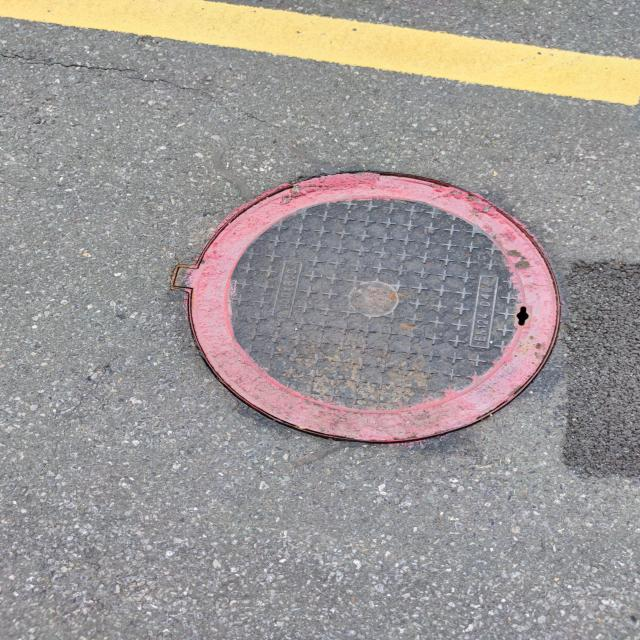Good: (181, 169, 564, 444)
